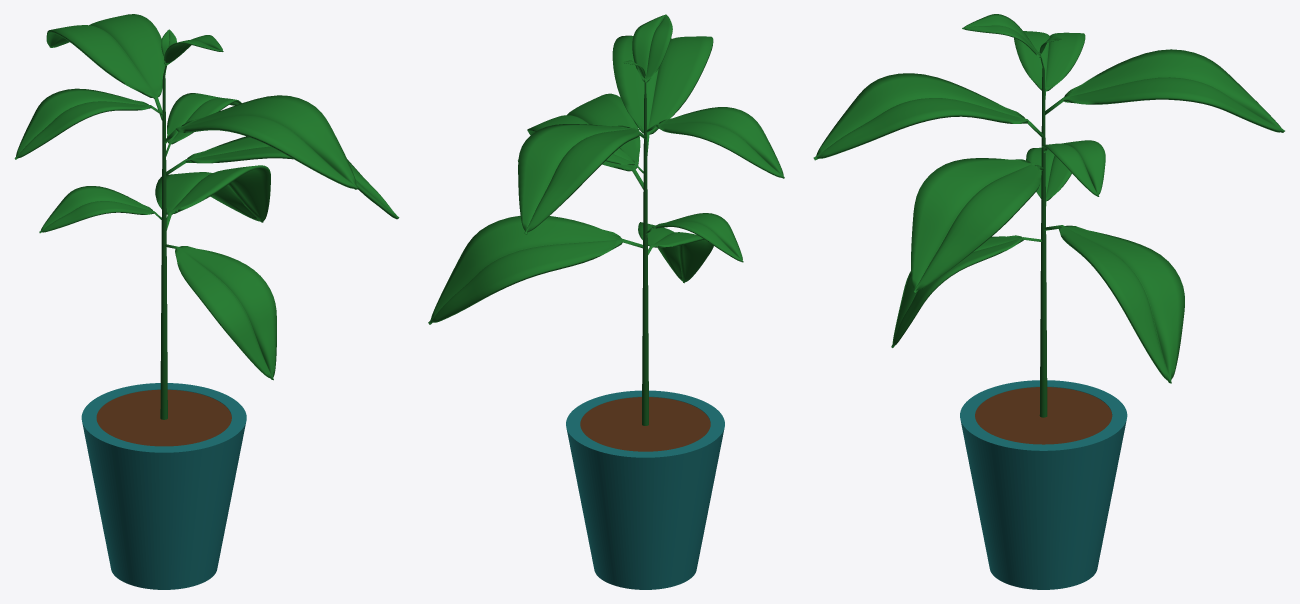
File: plant.glb
The picture shows the model from 3 angles, left to right: view 1: azimuth 30°, elevation 25°; view 2: azimuth 150°, elevation 25°; view 3: azimuth 270°, elevation 25°; orthographic projection. The views are drawn at different scales.
Visible parts, largest first — view 1: leaves, pot, soil, stem; view 2: leaves, pot, soil, stem; view 3: leaves, pot, soil, stem.
Part boxes in pixels (<box>): leaves: <box>14,14,399,380</box>; pot: <box>81,383,246,589</box>; soil: <box>96,389,231,446</box>; stem: <box>160,65,167,419</box>; leaves: <box>428,14,784,324</box>; pot: <box>566,390,724,589</box>; soil: <box>580,397,710,451</box>; stem: <box>642,82,648,425</box>; leaves: <box>813,14,1284,383</box>; pot: <box>960,380,1127,589</box>; soil: <box>975,387,1112,444</box>; stem: <box>1039,58,1047,417</box>.
Size of the model in its own units: 0.8509 by 1.39 by 1.08.
